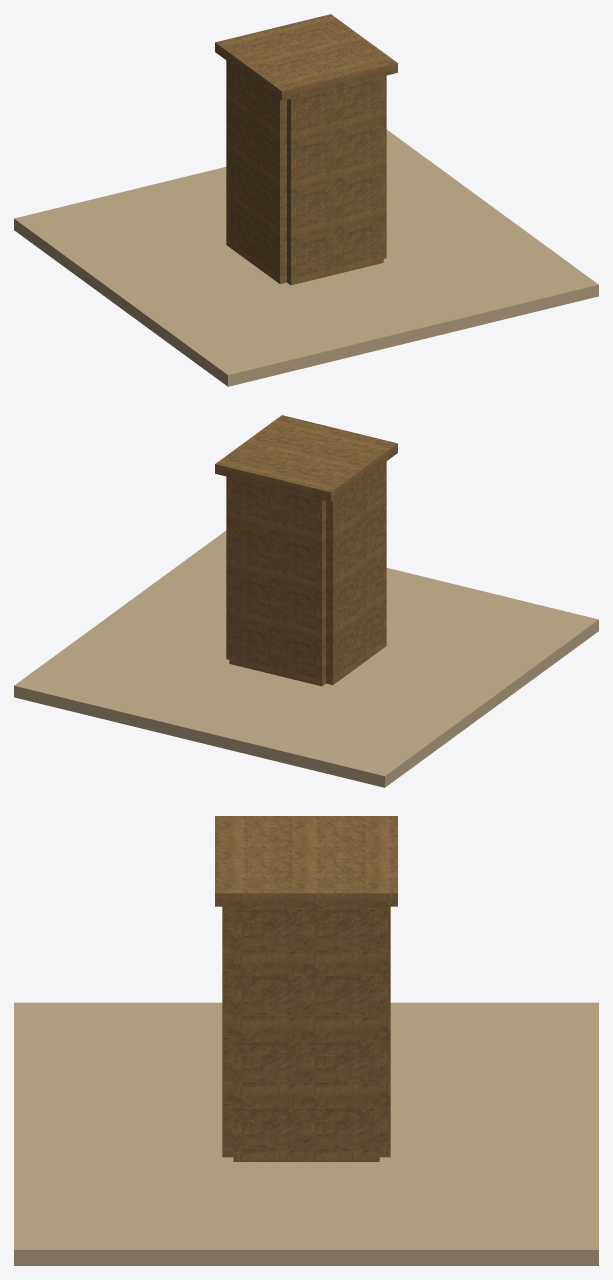
The model's file is torre.glb.
The picture shows the model from 3 angles, top to bottom: view 1: azimuth 30°, elevation 25°; view 2: azimuth 150°, elevation 25°; view 3: azimuth 270°, elevation 25°; orthographic projection. The views are drawn at different scales.
Visible parts, largest first — view 1: Base ilustrativa, Parede.001, Parede.002, Plataforma superior, Parede.003; view 2: Base ilustrativa, Parede, Parede.002, Plataforma superior, Parede.003; view 3: Base ilustrativa, Parede.003, Plataforma superior, Parede, Parede.001.
Part boxes in pixels (x1,y1,x2,y2): Base ilustrativa: (14, 129, 598, 386); Parede.001: (287, 76, 383, 285); Parede.002: (226, 60, 286, 283); Plataforma superior: (215, 14, 397, 100); Parede.003: (383, 75, 386, 258); Base ilustrativa: (14, 530, 598, 787); Parede: (229, 477, 325, 686); Parede.002: (326, 461, 386, 684); Plataforma superior: (215, 415, 397, 501); Parede.003: (226, 476, 229, 659); Base ilustrativa: (14, 1002, 598, 1265); Parede.003: (233, 906, 379, 1161); Plataforma superior: (215, 816, 397, 906); Parede: (379, 906, 390, 1157); Parede.001: (222, 906, 233, 1157).
Bounding box in the file's own units: 8 × 4.34 × 8.
2 materials, 1 textured.
